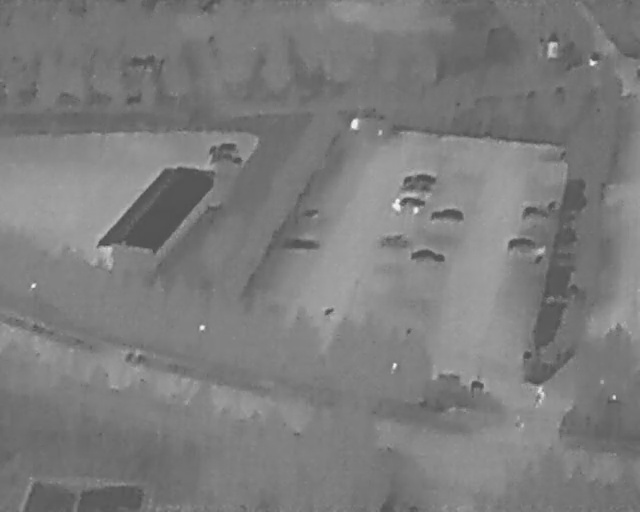Car: (402, 173, 437, 191), (430, 208, 464, 224), (394, 198, 427, 214), (410, 250, 445, 264), (207, 142, 240, 156), (208, 154, 243, 167), (398, 186, 433, 199), (508, 238, 536, 254), (521, 207, 548, 222)
